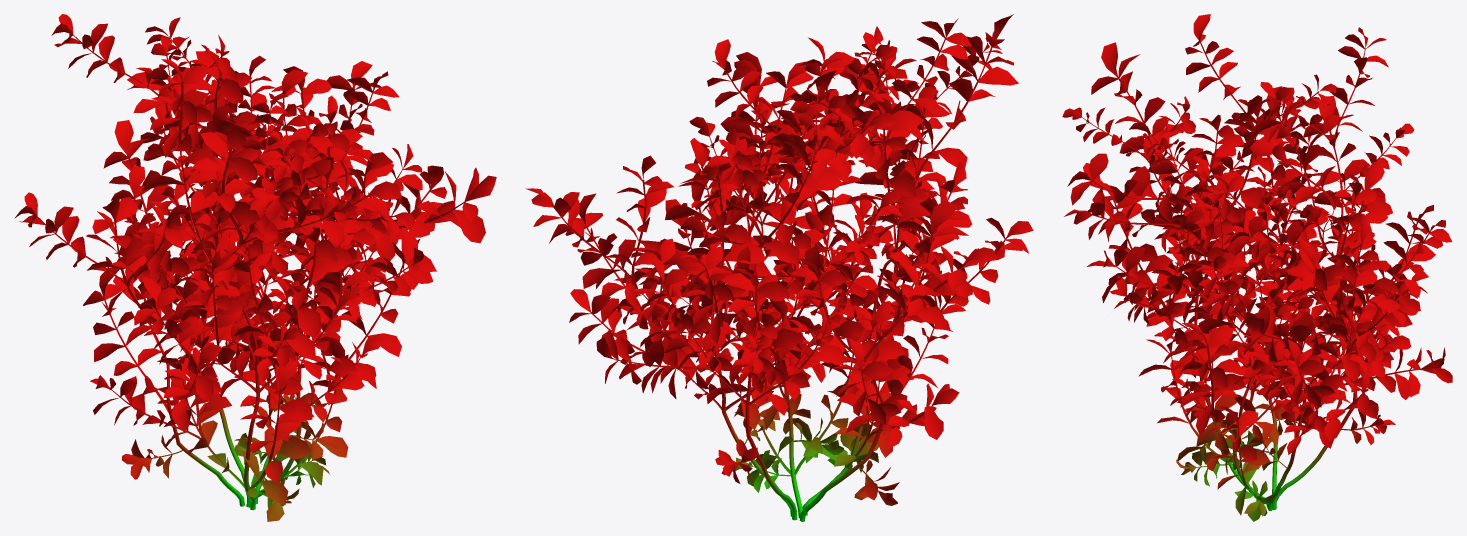
The model's file is European Spindle_LOD2_Var11.fbx.
3 views of the same model, side by side, from view 1: azimuth 30°, elevation 25°; view 2: azimuth 150°, elevation 25°; view 3: azimuth 270°, elevation 25° (orthographic). The views are drawn at different scales.
Visible parts, largest first — view 1: _fd18_Var11_LOD2; view 2: _fd18_Var11_LOD2; view 3: _fd18_Var11_LOD2.
Part boxes in pixels (x1,y1,x2,y2): _fd18_Var11_LOD2: (14,14,496,521); _fd18_Var11_LOD2: (525,14,1033,521); _fd18_Var11_LOD2: (1062,14,1452,521).
Bounding box in the file's own units: 176 × 198 × 159.
